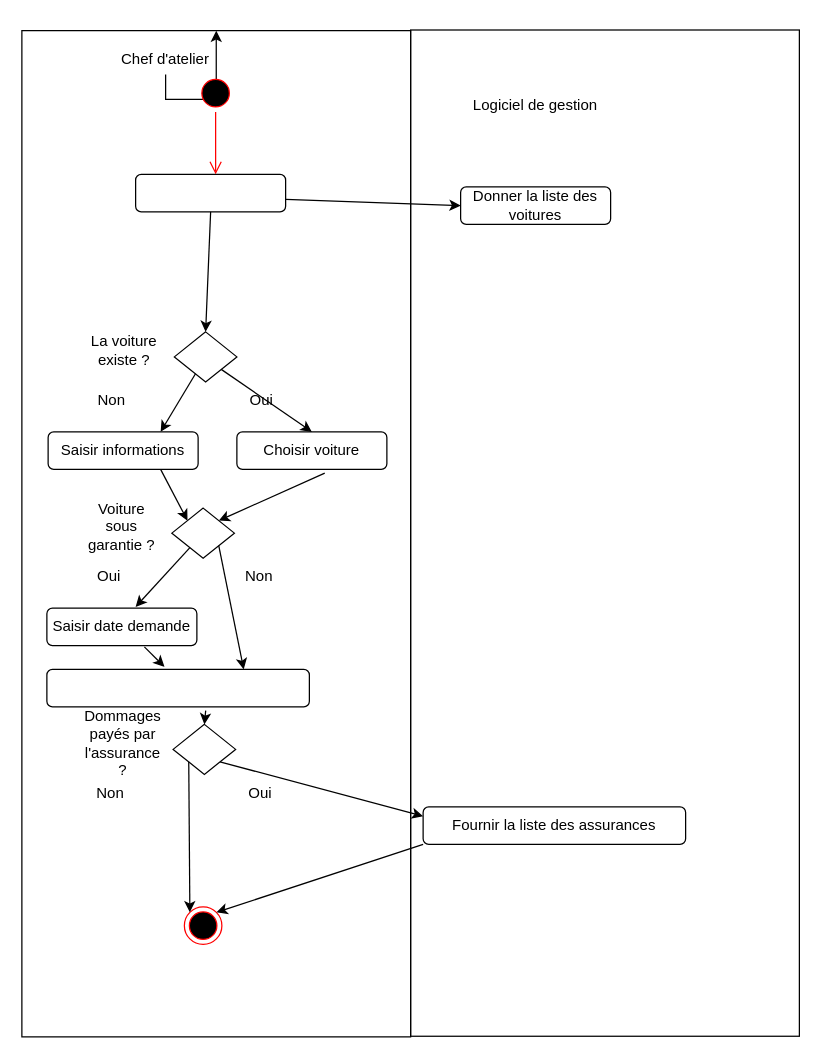
This 821x1059 diagram has some shape labels left out. Each missing label, with the centre of its shape:
Saisir critères gestion: the point at 210,192
Saisir dates réparation & restitution: the point at 177,687
